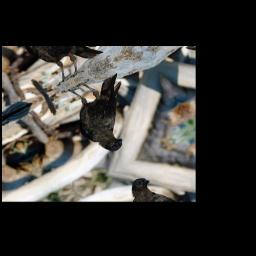Crow: (55, 65, 156, 161)
